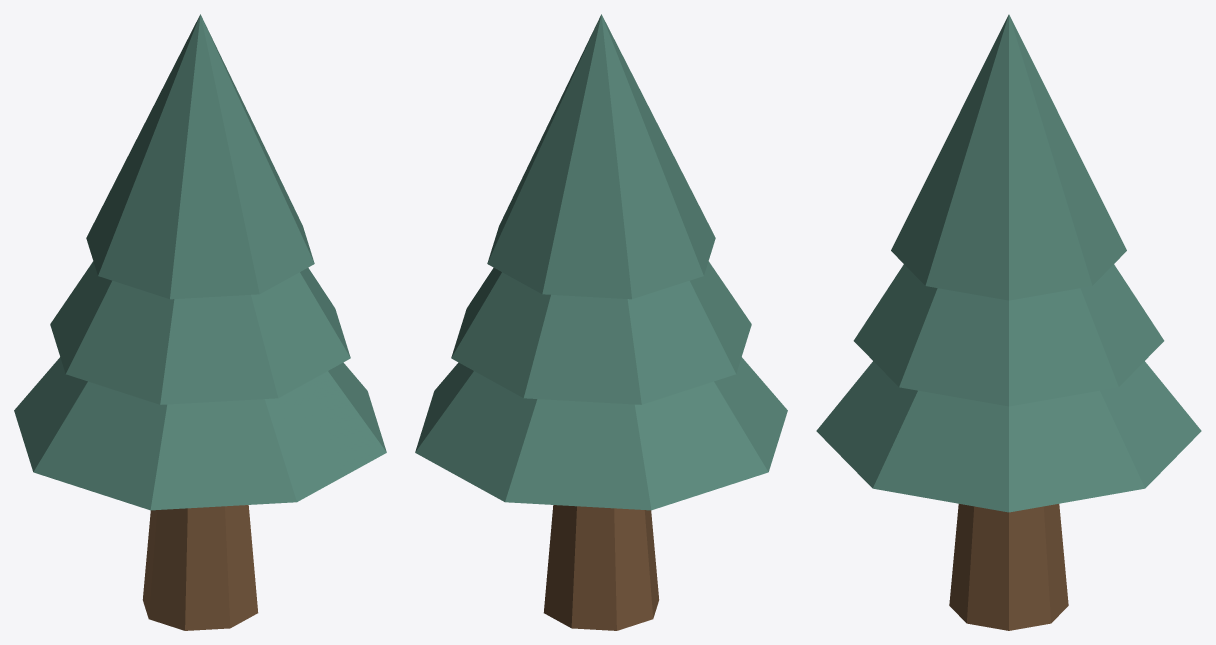
File: tree-2.glb
3 views of the same model, side by side, from view 1: azimuth 30°, elevation 25°; view 2: azimuth 150°, elevation 25°; view 3: azimuth 270°, elevation 25° (orthographic).
Parts seen in each view (by area): view 1: Cone.006, Cone.008, Cone.007, Cone.005; view 2: Cone.006, Cone.008, Cone.007, Cone.005; view 3: Cone.006, Cone.008, Cone.007, Cone.005.
Part boxes in pixels (x1,y1,x2,y2): Cone.006: [14, 357, 386, 510]; Cone.008: [86, 14, 314, 299]; Cone.007: [50, 261, 350, 404]; Cone.005: [142, 505, 258, 630]; Cone.006: [415, 357, 787, 510]; Cone.008: [487, 14, 715, 299]; Cone.007: [451, 261, 751, 404]; Cone.005: [543, 505, 659, 630]; Cone.006: [816, 361, 1201, 512]; Cone.008: [891, 14, 1126, 300]; Cone.007: [853, 264, 1164, 406]; Cone.005: [949, 504, 1068, 630].
Size of the model in its own units: 3.1 by 5.25 by 3.1.
